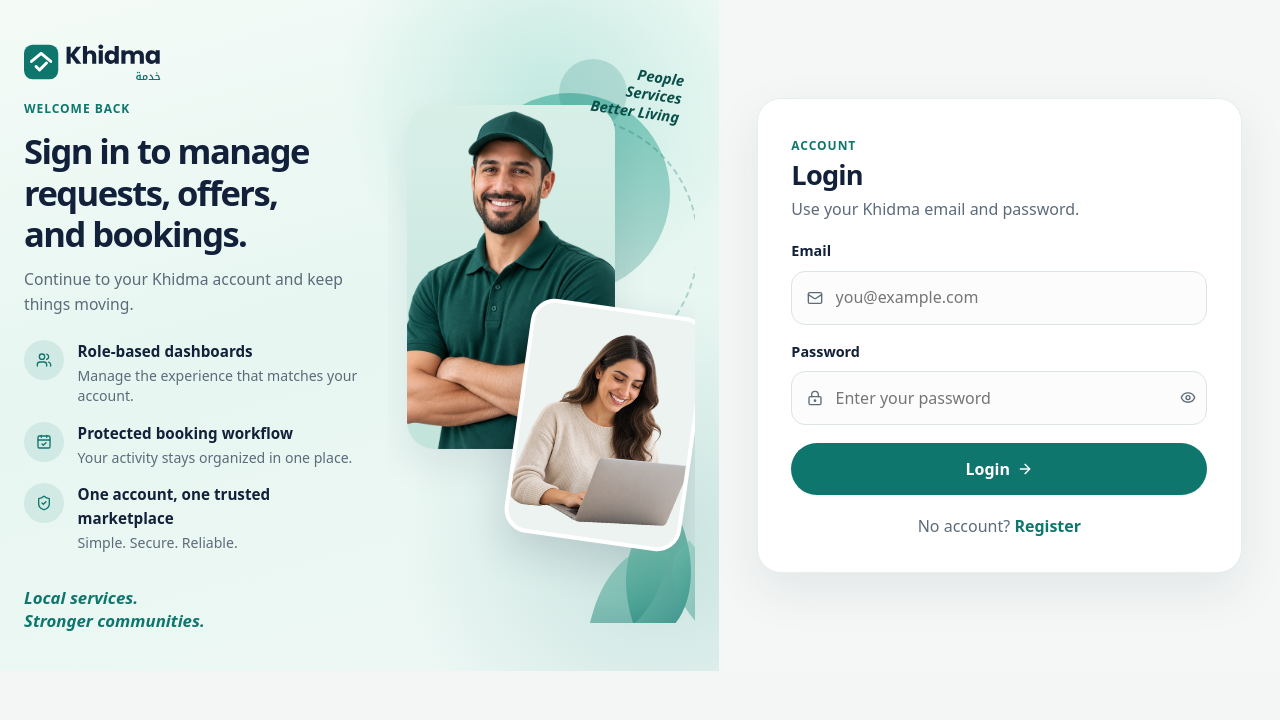
Test case: LoginPage › renders an API login error in an alert
Type "wrong@khidma.test" into the field labelled "Email" at {"x": 999, "y": 298}, box [791,271,1207,325]
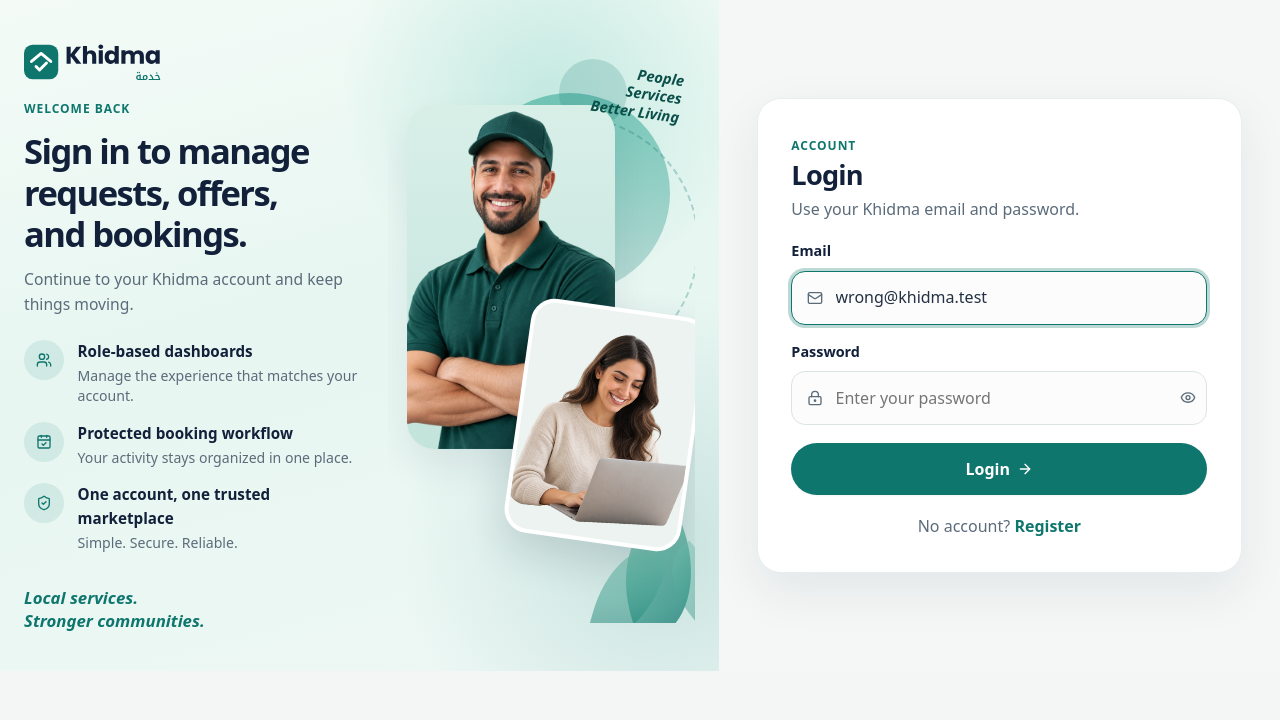
Type "not-the-password" into the password field labelled "Password" at {"x": 999, "y": 398}, box [791,371,1207,425]
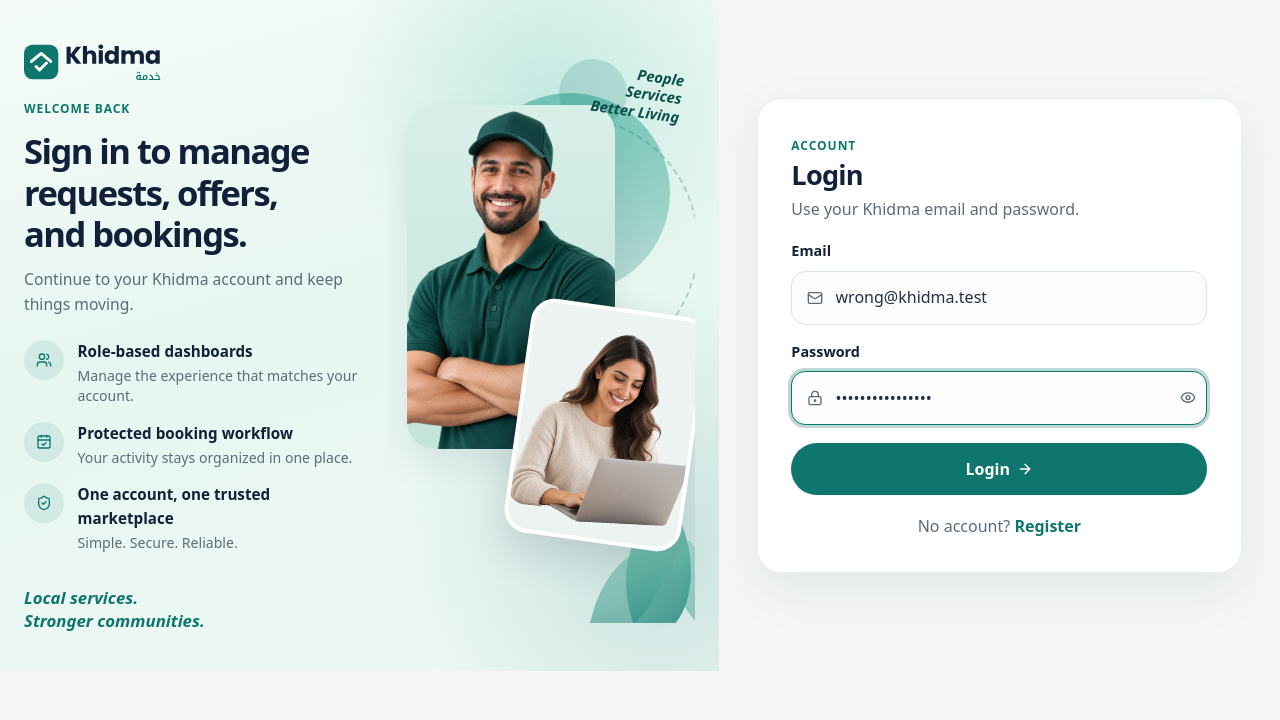
Click the button "Login" at {"x": 999, "y": 469}, box [791,443,1207,495]
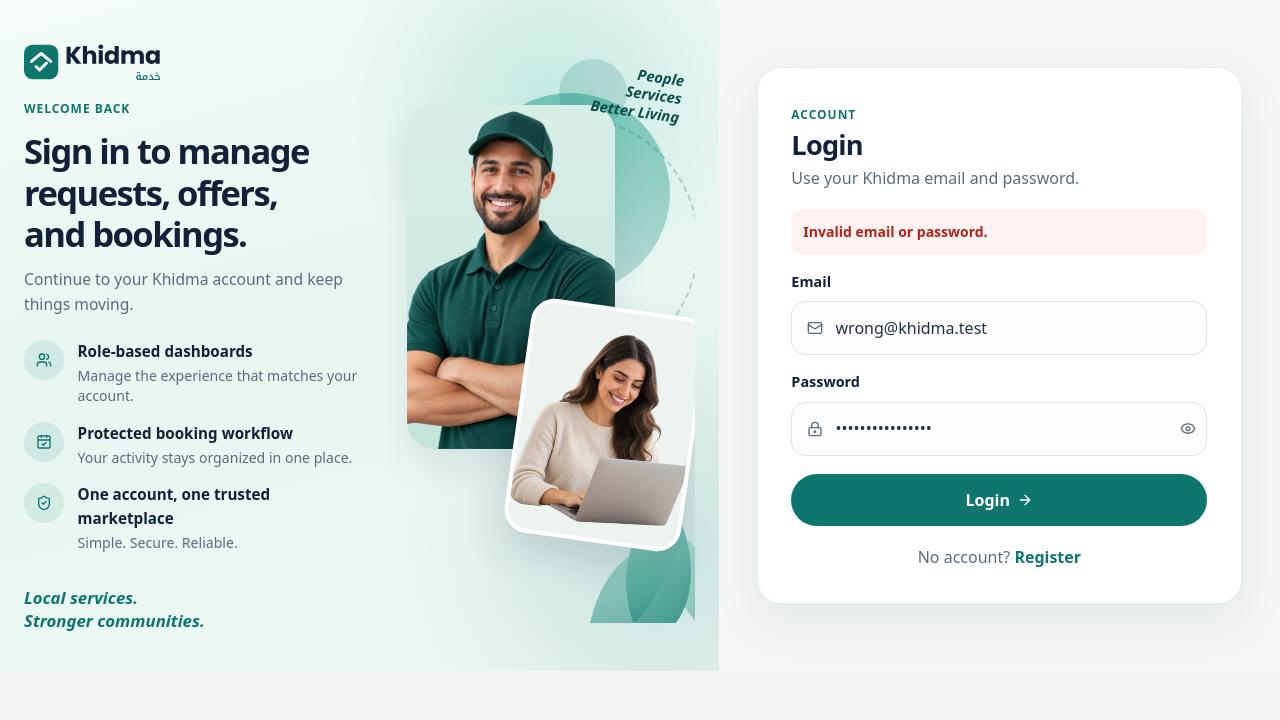
expect the message reads "Invalid email or password.": met, box [803,222,988,241]
